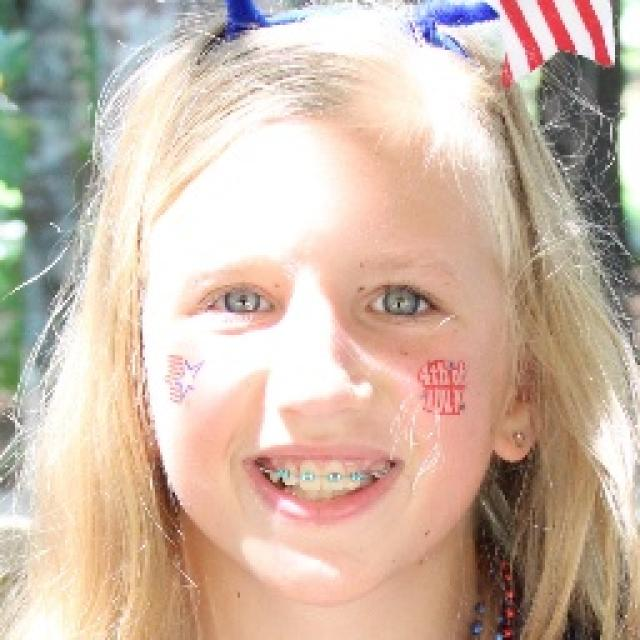earlobe: (489, 296, 552, 464)
